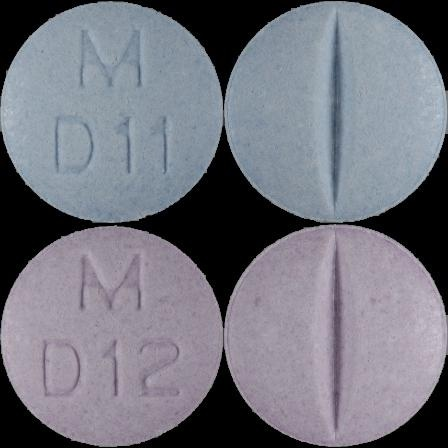0378-4024: (0, 0, 224, 224)
